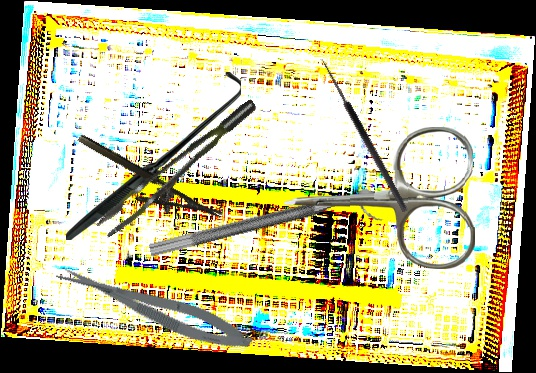Fixation Ring: (148, 186, 384, 277)
Hook Surgical: (66, 72, 241, 240), (310, 57, 410, 217)
Iris Scissors: (282, 126, 476, 272)
Micro Scissor: (53, 252, 257, 361)
Needle Holder: (66, 131, 224, 242)
Tissue Forceps: (84, 98, 273, 240)
